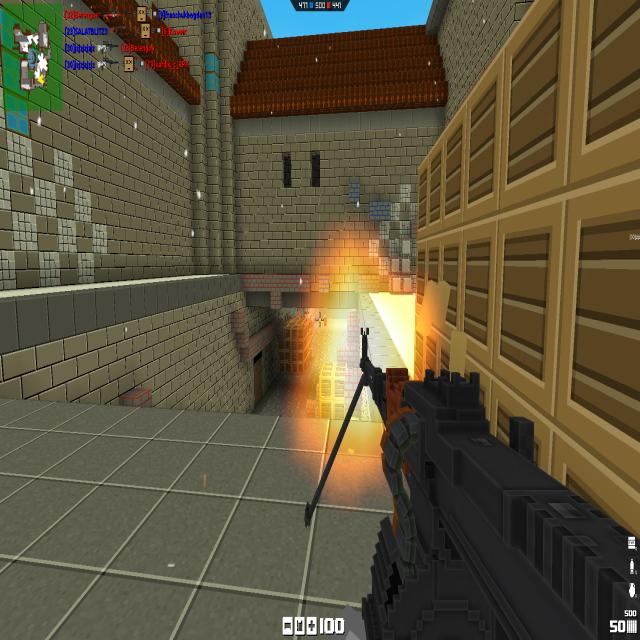player: (323, 314, 327, 326)
